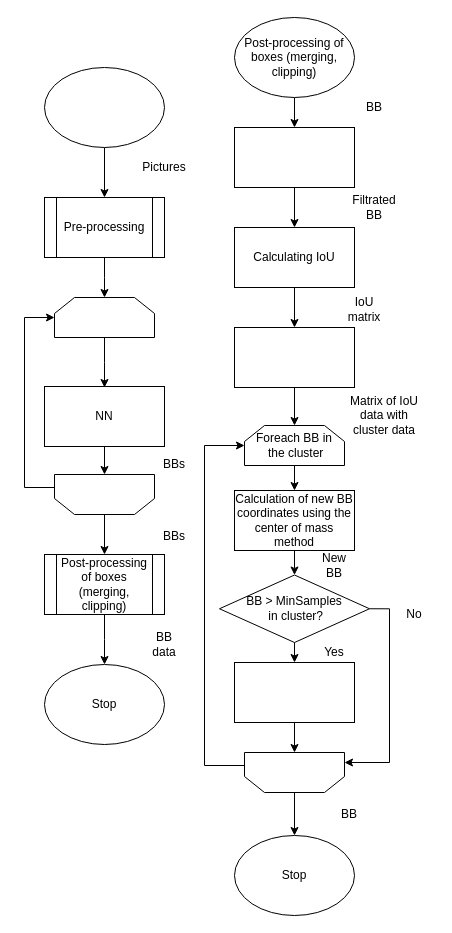
This 452x933 diagram has some shape labels left out. The box of each missing label's shape, as (x1, y1, x2, y2) in pixels:
Adding to the BB list: (234, 662, 354, 722)
DBSCAN by IoU: (234, 326, 354, 388)
Foreach 5 frames: (54, 296, 154, 338)
Saving to an array of boxes with a probability >= Threshold: (234, 126, 354, 188)
Start: (44, 66, 164, 148)
